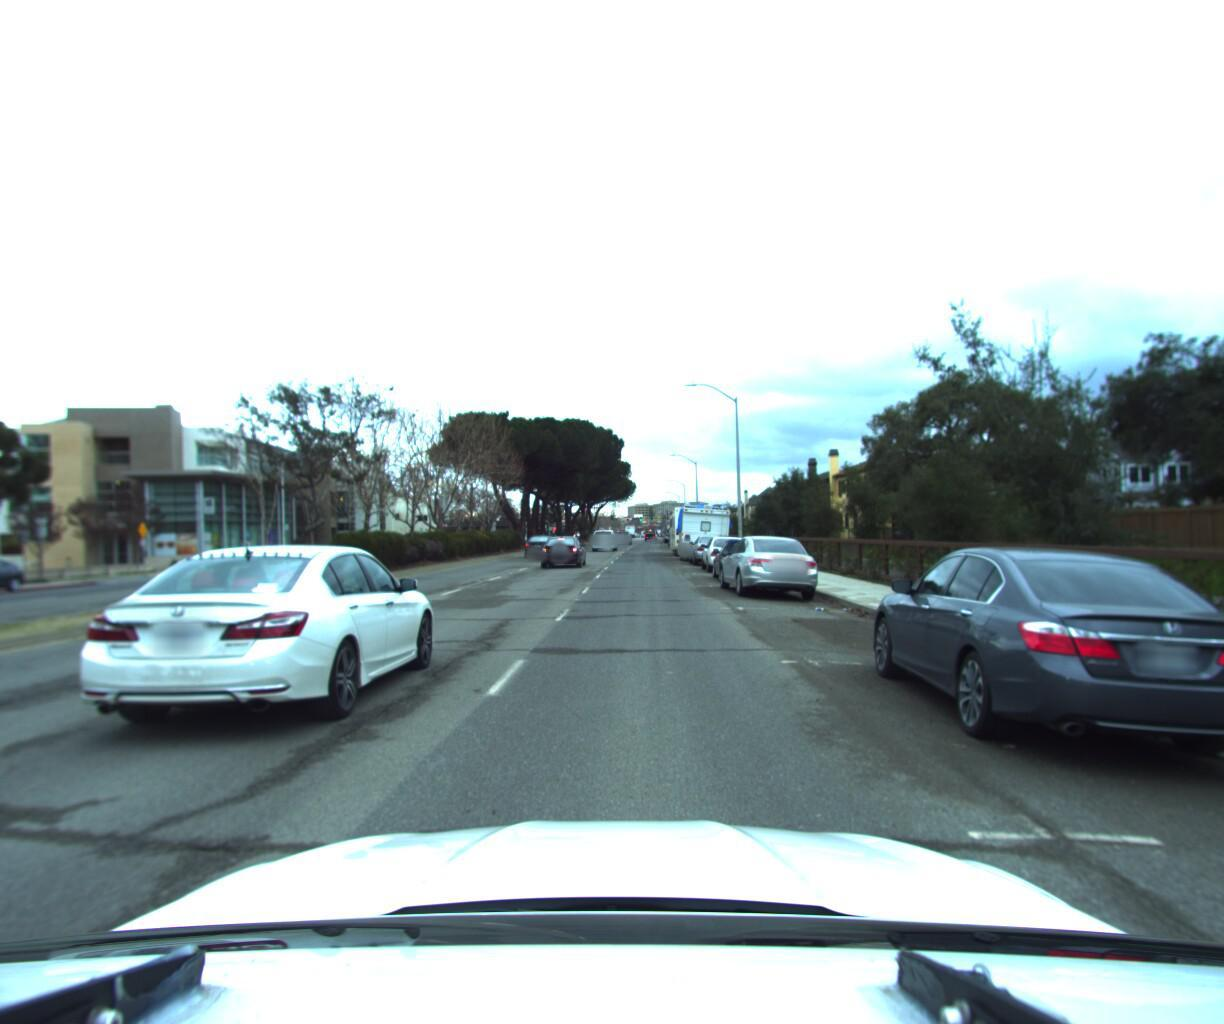car: (854, 536, 1224, 809), (63, 540, 447, 766), (712, 531, 822, 602), (705, 534, 786, 584), (699, 530, 758, 573), (537, 530, 589, 568), (688, 531, 735, 565), (519, 531, 554, 556), (592, 526, 616, 546)
other_vehicle: (674, 502, 733, 562), (669, 502, 723, 554)
